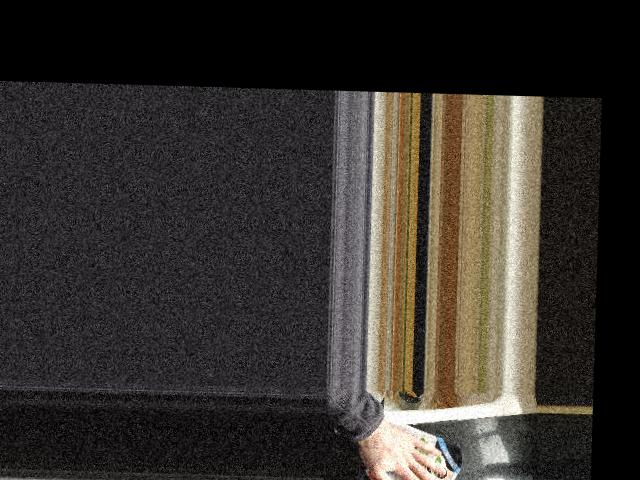cheese: (354, 413, 466, 480)
